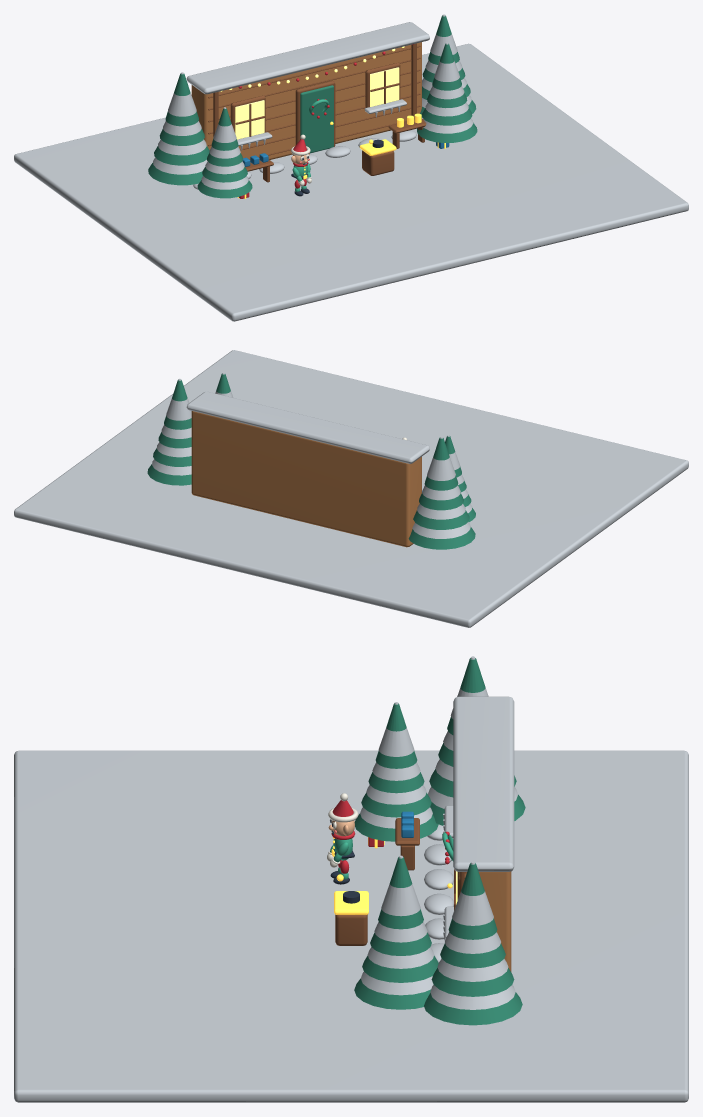
Rendered from chapter-23.glb.
3 views of the same model, one above another, from view 1: azimuth 30°, elevation 25°; view 2: azimuth 150°, elevation 25°; view 3: azimuth 270°, elevation 25° (orthographic). The views are drawn at different scales.
Parts seen in each view (by area): view 1: Schneeboden, Werkstatt, Schneegesims, Wichteltür, Warmes Fenster, Warmes Fenster.001, Motor, Tannenzweig.008, Tannenzweig.009, Türrahmen, Tannenzweig.004, Tannenzweig.011 (+7 smaller); view 2: Schneeboden, Werkstatt, Schneegesims, Tannenzweig.008, Tannenzweig.009, Tannenzweig.011, Schnee.008, Schnee.011, Tannenzweig.015, Tannenzweig.012, Tannenzweig.010, Schnee.009 (+1 smaller); view 3: Schneeboden, Schneegesims, Werkstatt, Tannenzweig.012, Tannenzweig.013, Tannenzweig.015, Schnee.012, Tannenzweig.005, Tannenzweig.004, Schnee.015, Tannenzweig.007, Motor (+15 smaller).
Boxes of the visible parts, box(x1,y1,x2,y2) form: Schneeboden: box(14, 43, 688, 321); Werkstatt: box(191, 42, 421, 160); Schneegesims: box(186, 22, 429, 94); Wichteltür: box(300, 85, 333, 153); Warmes Fenster: box(235, 100, 264, 139); Warmes Fenster.001: box(370, 67, 399, 106); Motor: box(362, 150, 394, 175); Tannenzweig.008: box(148, 163, 202, 185); Tannenzweig.009: box(154, 146, 209, 165); Türrahmen: box(295, 81, 335, 146); Tannenzweig.004: box(417, 122, 477, 142); Tannenzweig.011: box(165, 73, 198, 126); Schneeboden: box(14, 350, 688, 627); Werkstatt: box(191, 411, 421, 547); Schneegesims: box(186, 391, 429, 463); Tannenzweig.008: box(408, 527, 475, 549); Tannenzweig.009: box(413, 510, 469, 529); Tannenzweig.011: box(424, 437, 458, 490); Schnee.008: box(412, 522, 470, 538); Schnee.011: box(427, 436, 455, 480); Tannenzweig.015: box(164, 380, 191, 429); Tannenzweig.012: box(147, 464, 191, 485); Tannenzweig.010: box(419, 493, 463, 510); Schnee.009: box(417, 504, 465, 519); Schneeboden: box(14, 750, 688, 1102); Schneegesims: box(453, 696, 514, 871); Werkstatt: box(466, 871, 511, 971); Tannenzweig.012: box(424, 992, 522, 1025); Tannenzweig.013: box(431, 968, 514, 996); Tannenzweig.015: box(448, 863, 497, 939); Schnee.012: box(430, 985, 515, 1009); Tannenzweig.005: box(362, 955, 438, 982); Tannenzweig.004: box(354, 978, 430, 1009); Schnee.015: box(452, 861, 493, 925); Tannenzweig.007: box(378, 857, 423, 929); Motor: box(335, 914, 367, 945).
Size of the model in its own units: 18 by 4.39 by 15.
